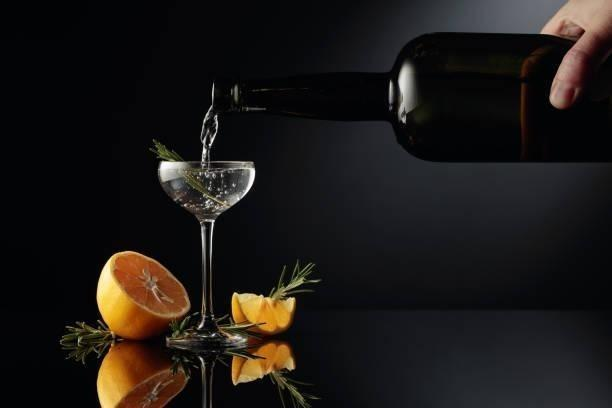bottle-glass: (207, 28, 612, 166)
glass-wine: (156, 157, 257, 349)
